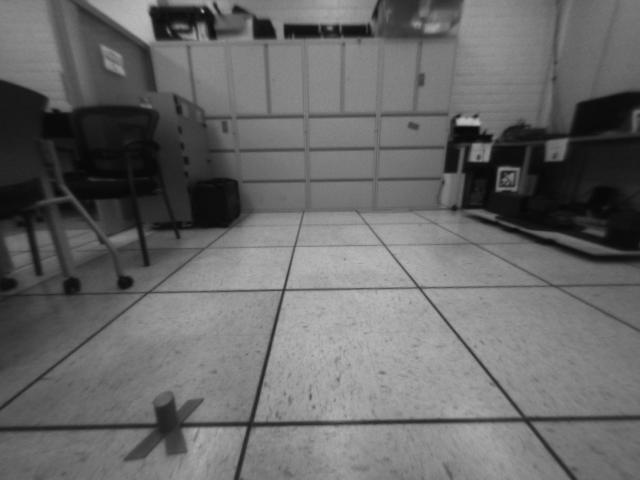X: (122, 389, 206, 463)
